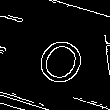O_NE: (27, 21, 91, 86)
